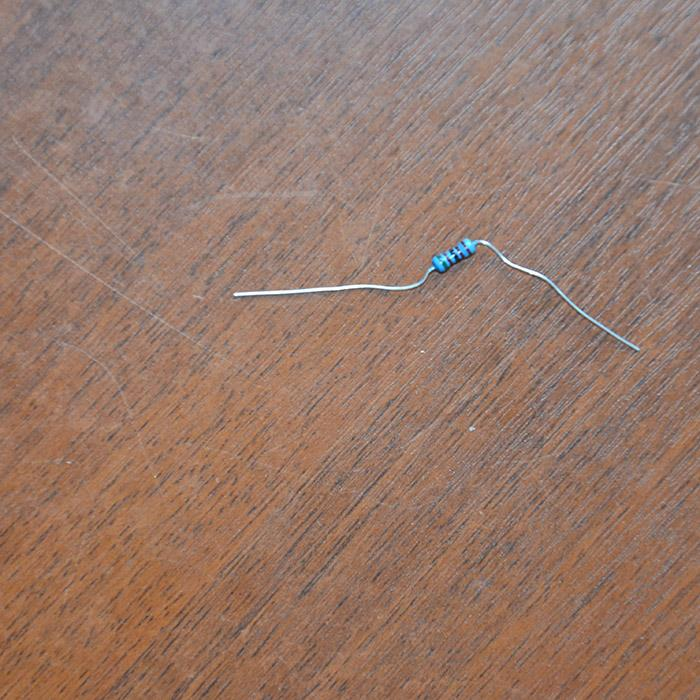resistor: (430, 237, 478, 273)
